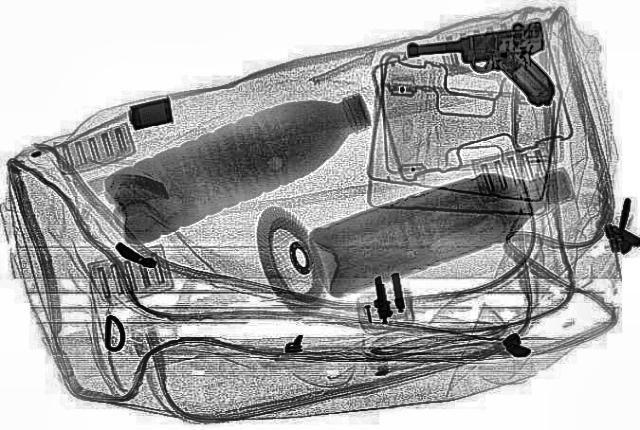Gun: (396, 15, 580, 125)
